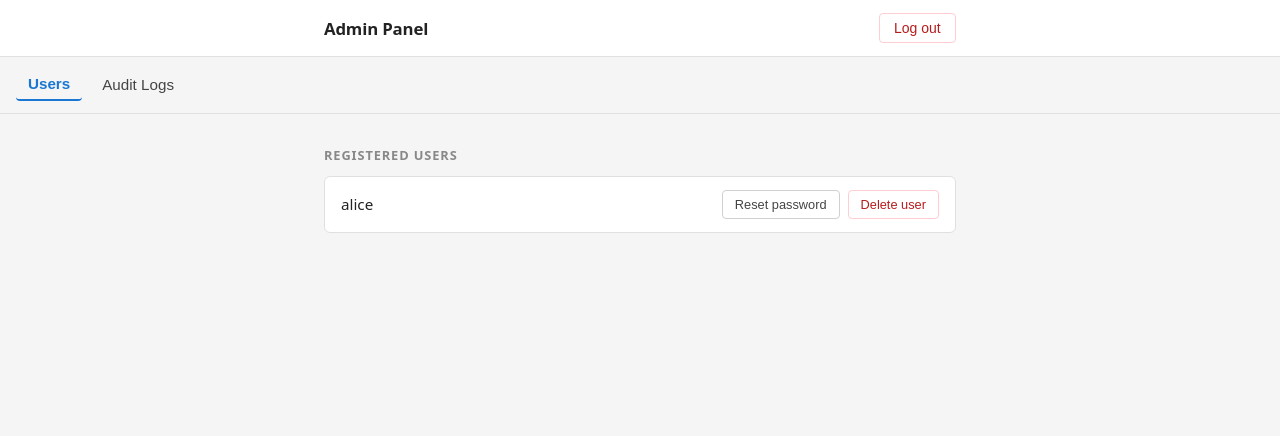
it: Admin panel — F-27 reset password › confirm reset button is enabled when password input has a value
The image size is (1280, 436).
Click the button with aria-label "reset password for alice". click: point(781, 204)
box: [722,190,840,219]
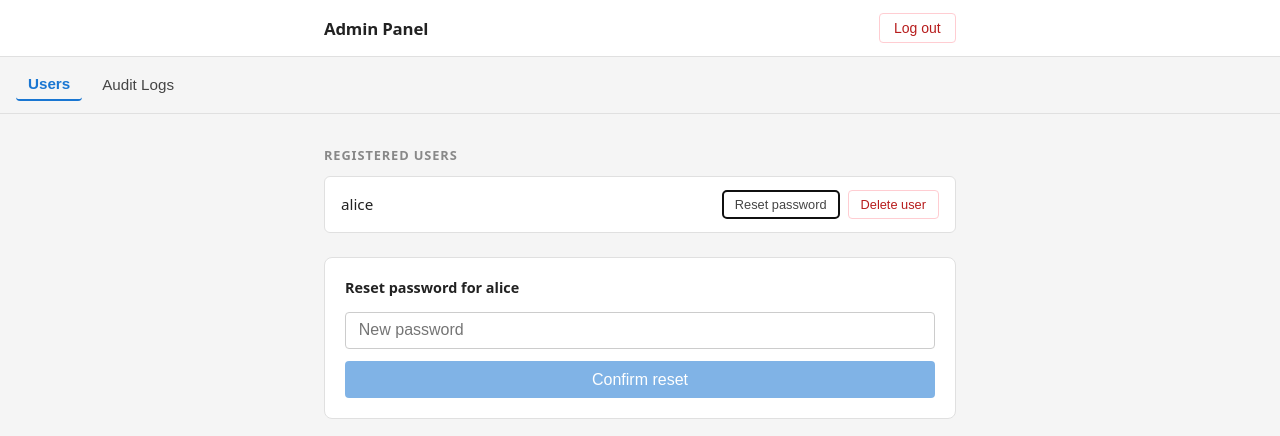
Type "newpass" into the password field with id "new-password-input". click: point(640, 330)
box: [345,312,935,349]
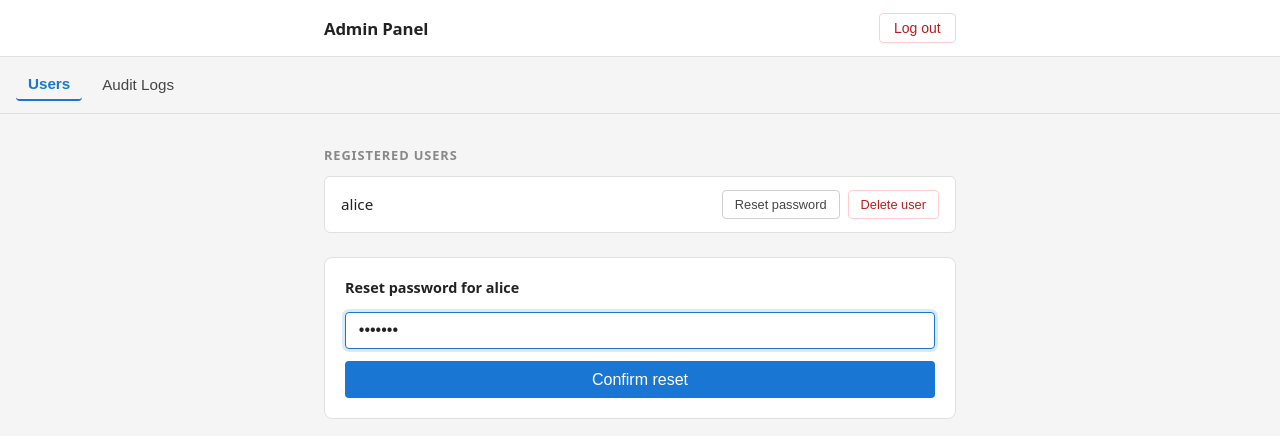
expect the button with id "confirm-reset-button" is enabled: met, box [345,361,935,398]
